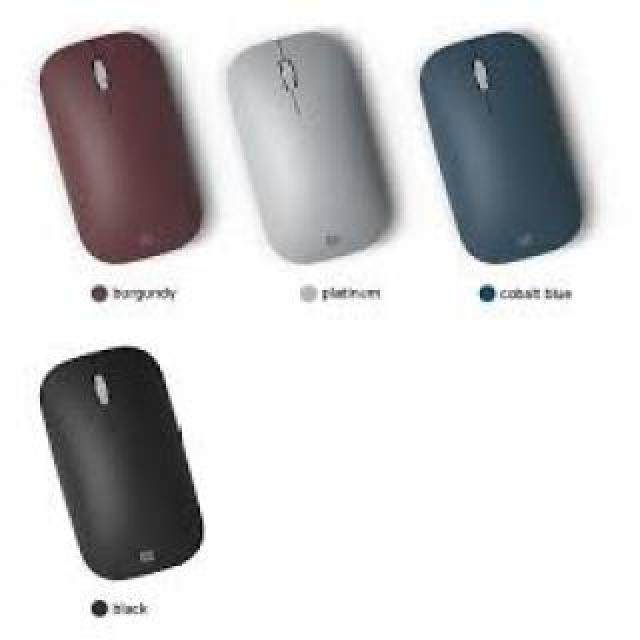mouse: (212, 15, 413, 285), (35, 344, 253, 588), (27, 7, 198, 272), (434, 0, 592, 282)
